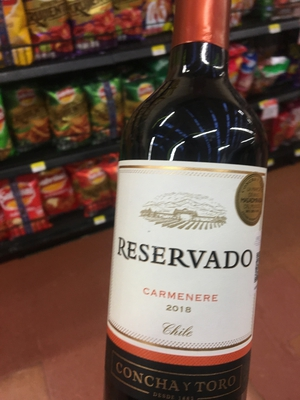reservado carmenere: (98, 20, 276, 399)
